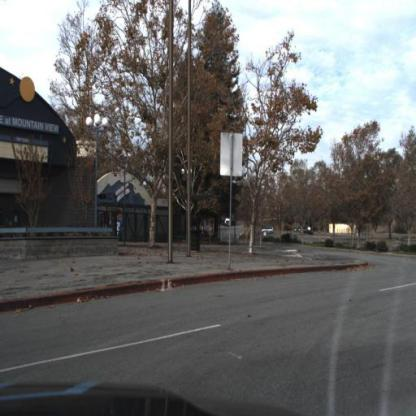car: (262, 226, 276, 239)
